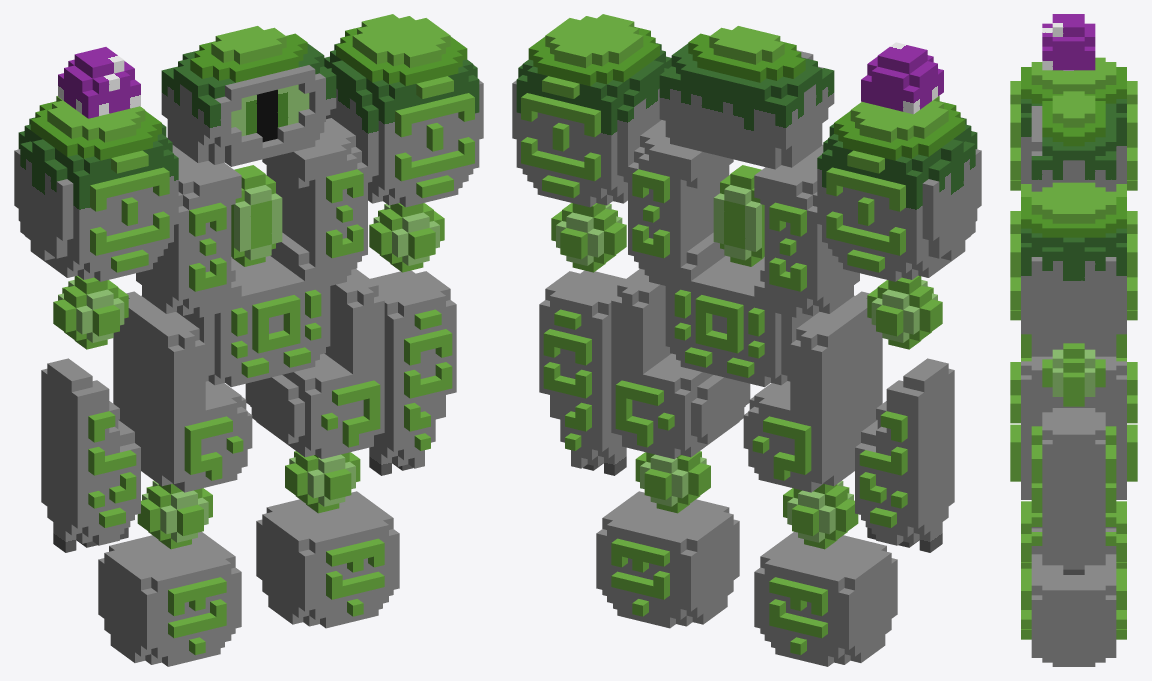
Rendered from stone_golem_green.gltf.
The picture shows the model from 3 angles, left to right: view 1: azimuth 30°, elevation 25°; view 2: azimuth 150°, elevation 25°; view 3: azimuth 270°, elevation 25°; orthographic projection. The views are drawn at different scales.
Visible parts, largest first — view 1: stone_golem_green-Mesh; view 2: stone_golem_green-Mesh; view 3: stone_golem_green-Mesh.
Boxes of the visible parts, x1,y1,x2,y2 form: stone_golem_green-Mesh: (14,14,483,666); stone_golem_green-Mesh: (512,14,981,666); stone_golem_green-Mesh: (1010,14,1137,666).
Bounding box in the file's own units: 40 × 55 × 12.
Materials: 1 (1 with a texture image).
